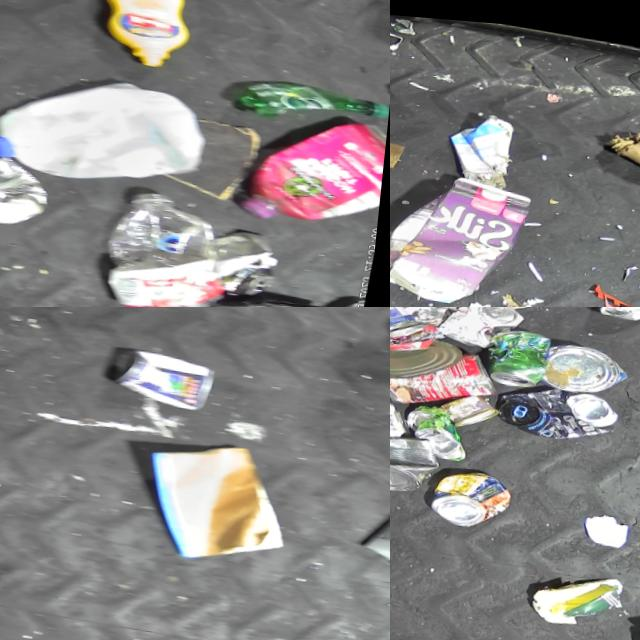can: (390, 333, 508, 413), (501, 371, 629, 441), (107, 338, 224, 406), (211, 215, 294, 292), (436, 459, 524, 527), (547, 332, 638, 393), (0, 139, 63, 225), (390, 321, 468, 385), (487, 321, 559, 386), (390, 419, 451, 493), (407, 398, 481, 458), (439, 307, 531, 348), (443, 385, 507, 428), (390, 384, 418, 448)
milk_jug: (0, 53, 222, 191)
non_white_jug: (390, 160, 538, 306)
plastic_bottle: (100, 176, 247, 307)
